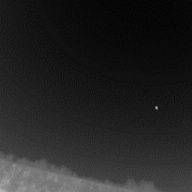Target: (153, 104, 159, 109)
